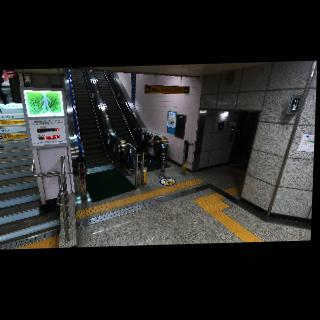anomaly: (132, 132, 159, 167)
